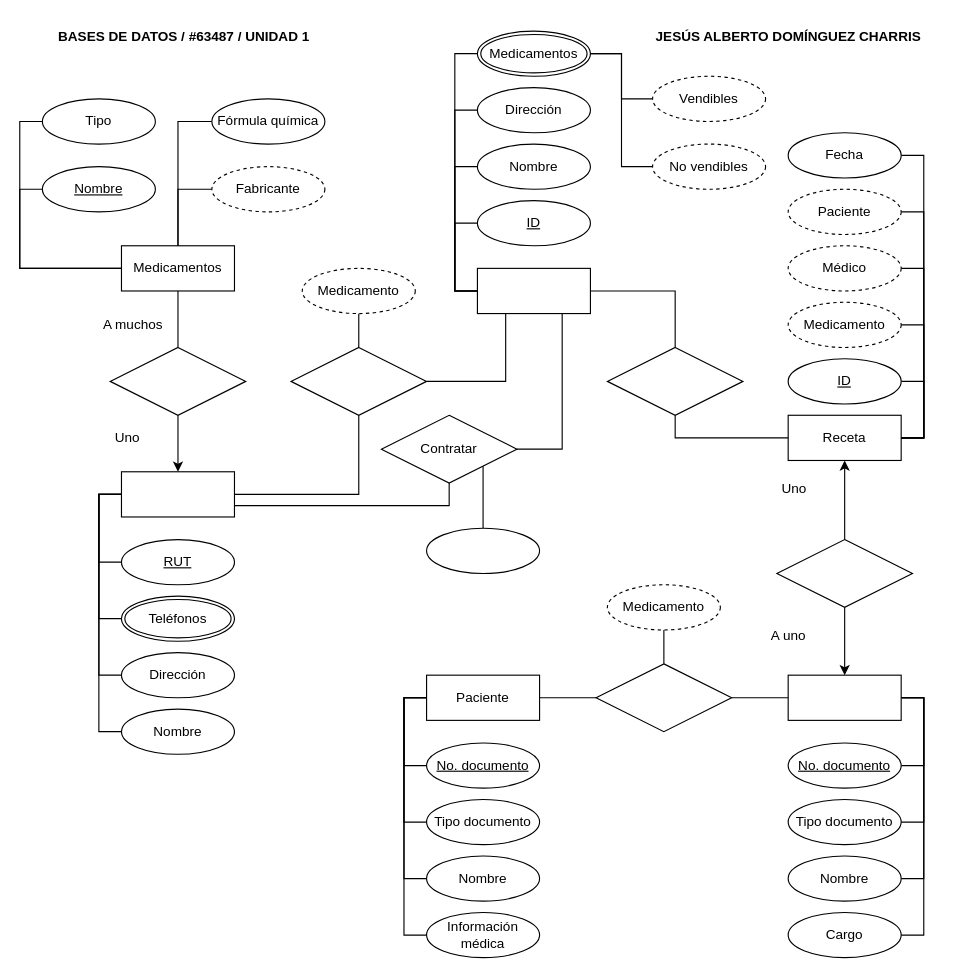
This 955x977 diagram has some shape labels left out. Each missing label, with the box of its shape:
Crear: (109, 346, 246, 415)
Doctor: (787, 674, 901, 720)
Droguerías: (476, 267, 590, 314)
Fábrica de medicamentos: (120, 471, 234, 517)
Generar: (776, 538, 912, 607)
No. contrato: (425, 527, 540, 573)
Recomendar medicamento: (595, 663, 732, 732)
Registrar vendibles: (606, 346, 743, 415)
Vender: (290, 346, 427, 415)
